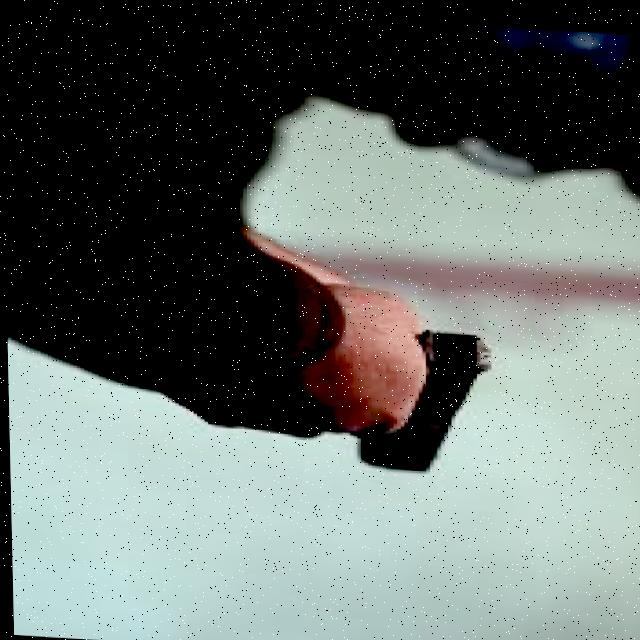pistol: (349, 319, 501, 475)
